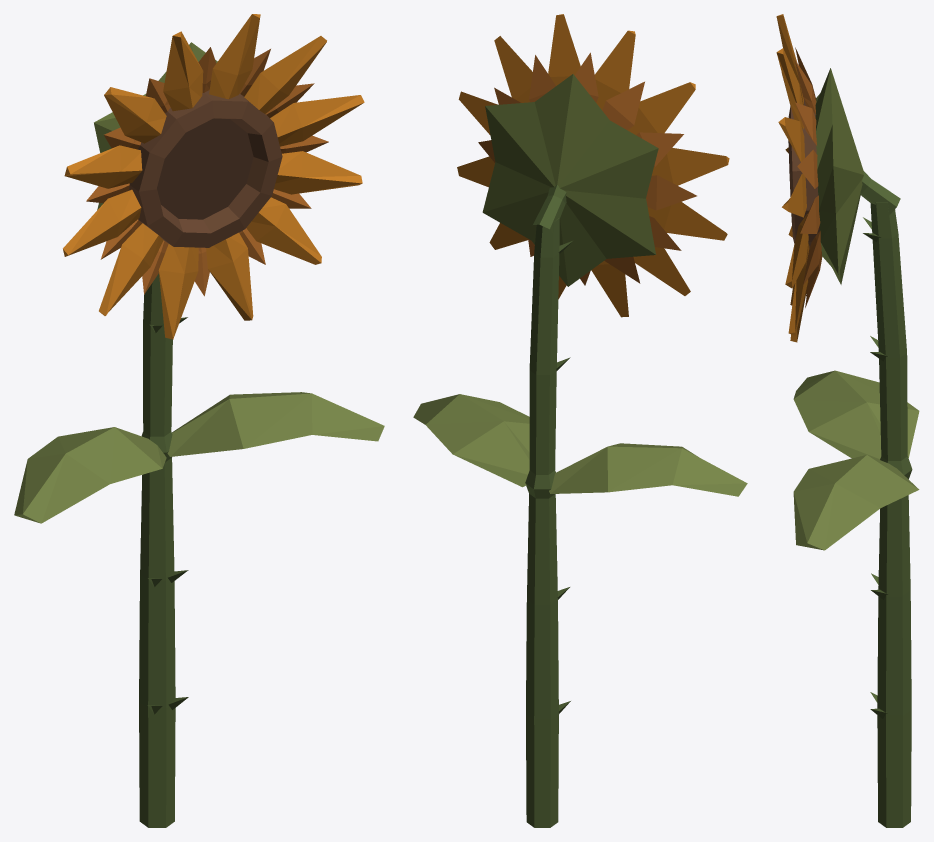
File: sunflower-80ce15.glb
3 renders of one model, left to right at view 1: azimuth 30°, elevation 25°; view 2: azimuth 150°, elevation 25°; view 3: azimuth 270°, elevation 25°, orthographic. The views are drawn at different scales.
Visible parts, largest first — view 1: yield-0-mesh, sunflower-mesh; view 2: yield-0-mesh, sunflower-mesh; view 3: sunflower-mesh, yield-0-mesh.
Part boxes in pixels (left/top/right/bottom): yield-0-mesh: left=63, top=14, right=364, bottom=339; sunflower-mesh: left=14, top=273, right=384, bottom=827; yield-0-mesh: left=457, top=14, right=729, bottom=317; sunflower-mesh: left=413, top=185, right=747, bottom=827; sunflower-mesh: left=793, top=171, right=919, bottom=827; yield-0-mesh: left=776, top=14, right=863, bottom=342.
Size of the model in its own units: 0.8073 by 1.79 by 0.2945.
